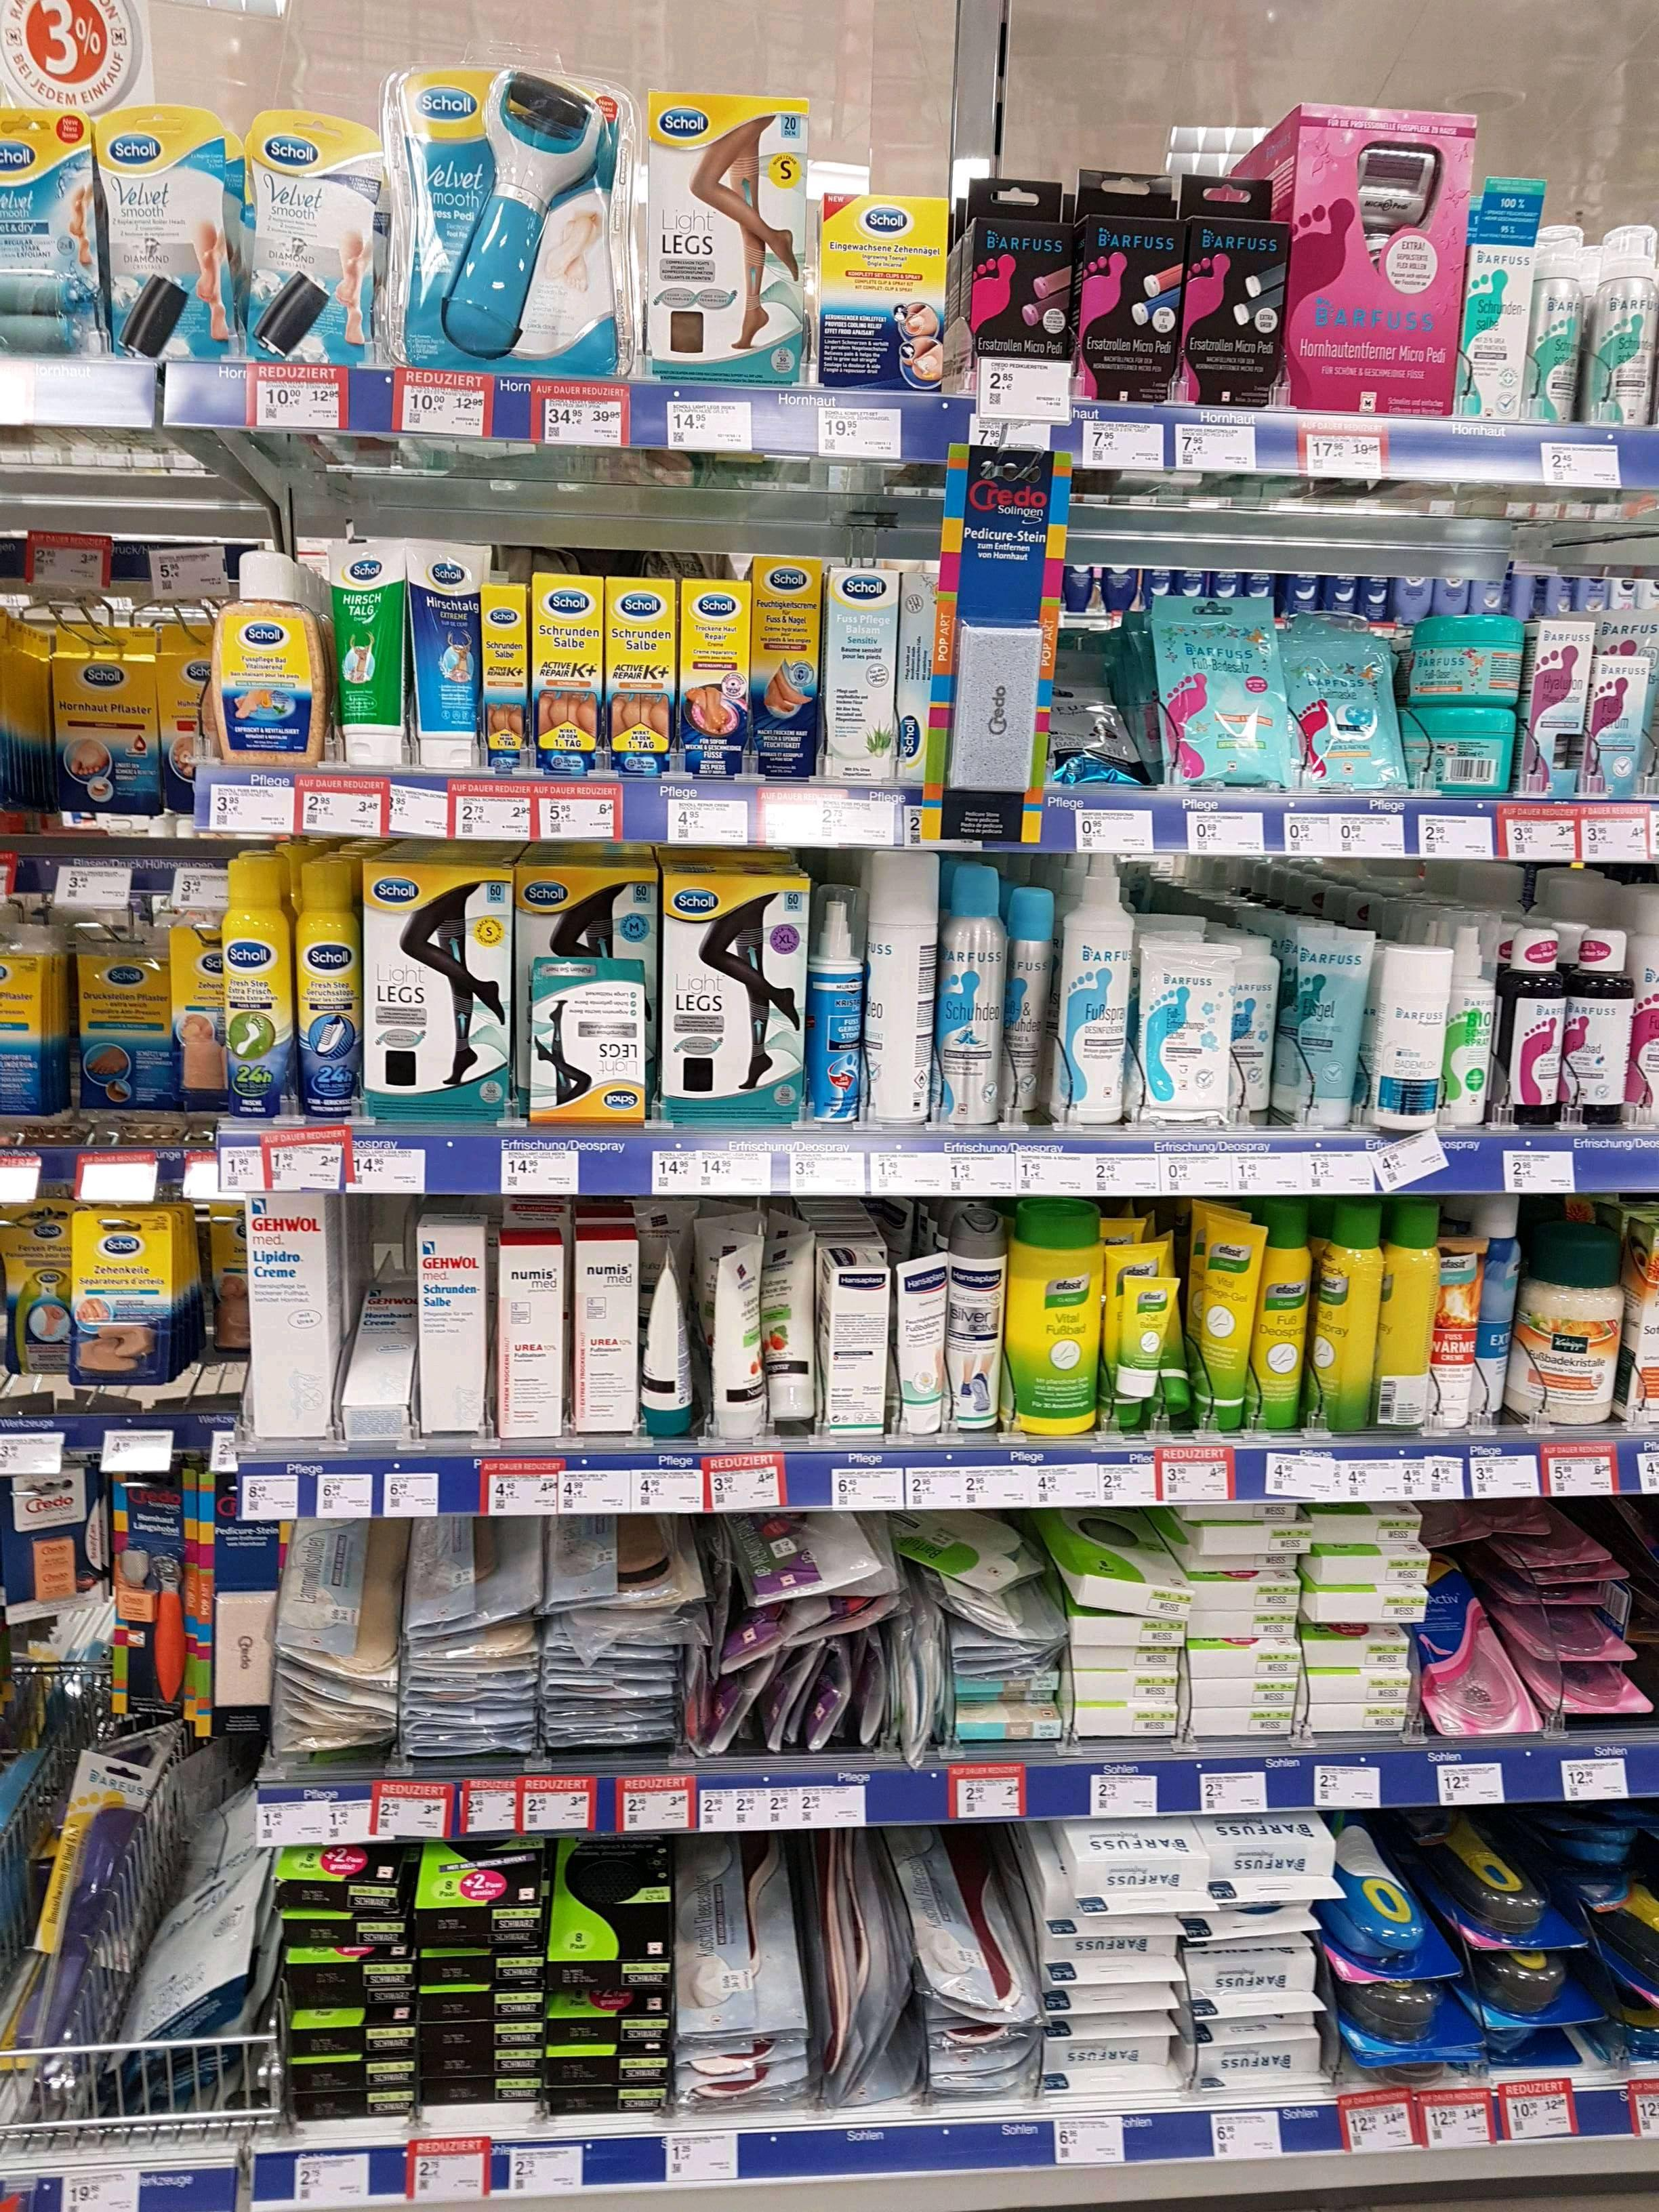misalignment: (521, 949, 655, 1123), (763, 1231, 828, 1447), (704, 1242, 763, 1446), (897, 1505, 1032, 1592), (354, 1259, 415, 1446), (640, 1244, 695, 1439), (1159, 1292, 1201, 1421)
